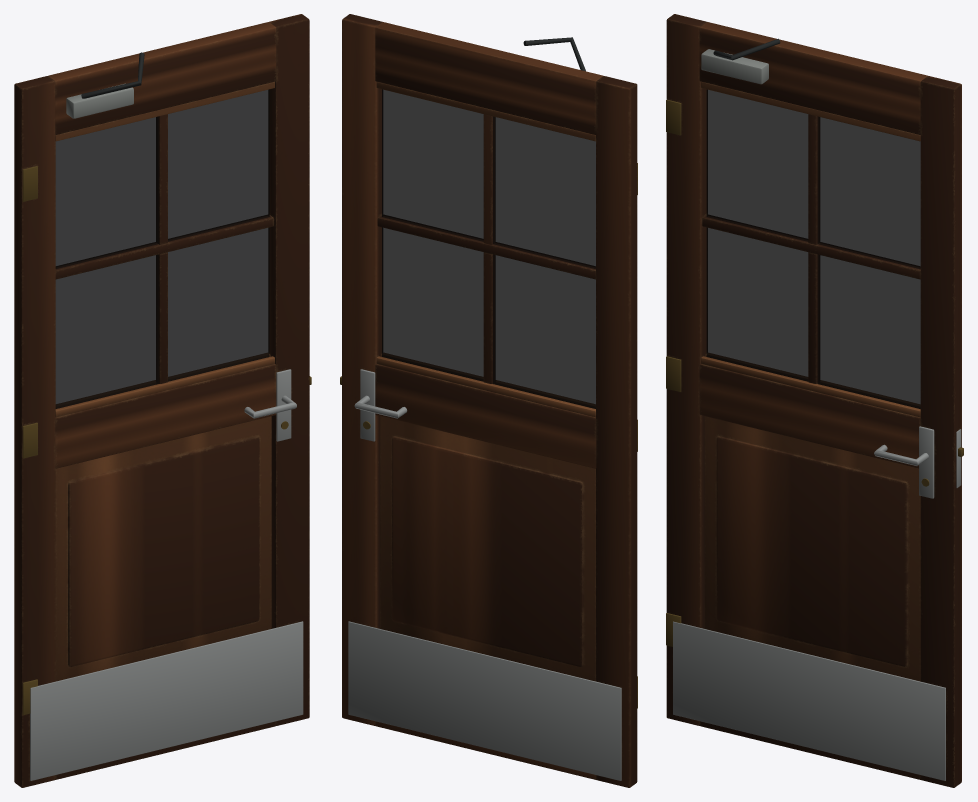
File: CTCC_ENV_StaffCrossDoor.fbx
3 renders of one model, left to right at view 1: azimuth 30°, elevation 25°; view 2: azimuth 150°, elevation 25°; view 3: azimuth 330°, elevation 25°, orthographic.
Visible parts, largest first — view 1: CTCC_ENV_StaffCrossDoor_LOD0; view 2: CTCC_ENV_StaffCrossDoor_LOD0; view 3: CTCC_ENV_StaffCrossDoor_LOD0.
Boxes of the visible parts, box(x1,y1,x2,y2) form: CTCC_ENV_StaffCrossDoor_LOD0: box(14, 14, 311, 787); CTCC_ENV_StaffCrossDoor_LOD0: box(340, 14, 637, 787); CTCC_ENV_StaffCrossDoor_LOD0: box(666, 14, 963, 787).
Size of what is drawn, in the model's own units: 0.955 by 2.22 by 0.2652.
